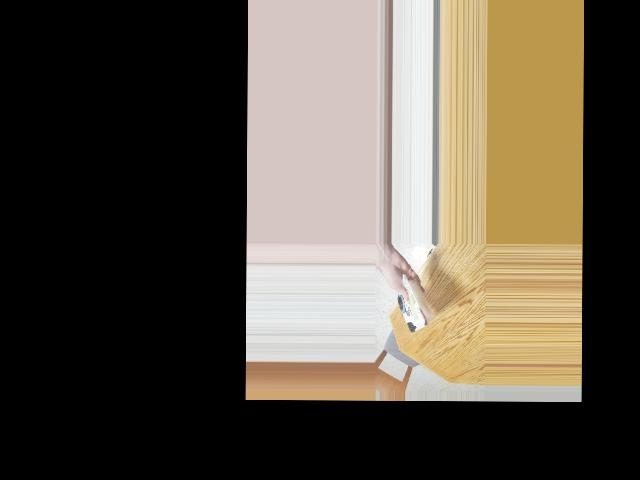cheese: (388, 282, 433, 329)
